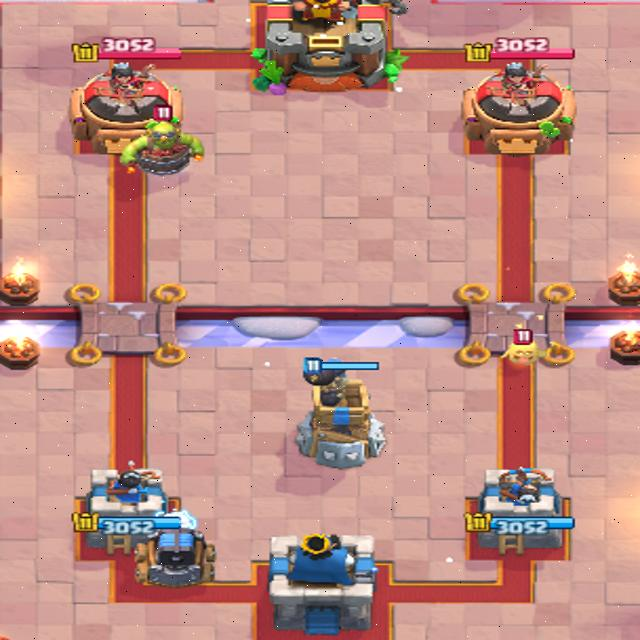EGoblindem: (134, 110, 203, 180)
EHealSpirit: (506, 328, 540, 371)
EnemyPrincessTower: (464, 41, 581, 160), (70, 28, 147, 145)
OBombertower: (298, 358, 388, 471)
OSparky: (156, 516, 211, 590)
OwnKingTower: (256, 552, 388, 639)
OwnPrincessTower: (466, 494, 567, 560), (70, 482, 159, 545)
